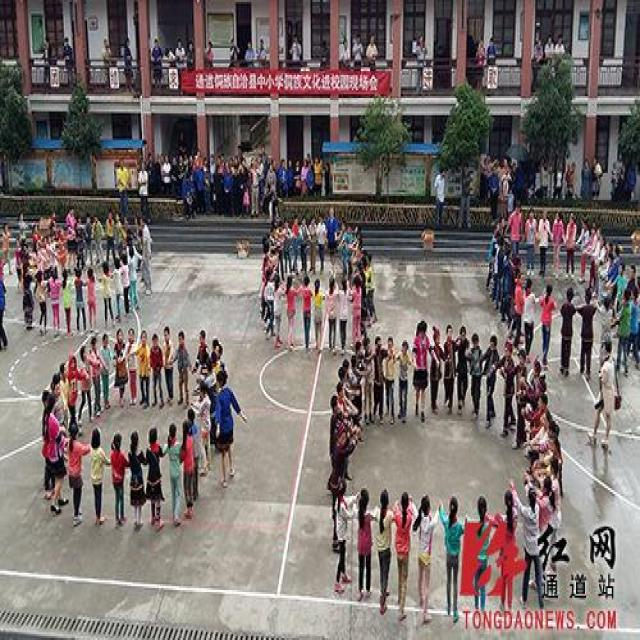non-fight: (41, 371, 72, 519), (467, 496, 492, 630), (494, 496, 518, 630), (414, 502, 438, 622), (391, 503, 414, 619), (442, 500, 464, 620), (355, 488, 375, 600), (86, 431, 109, 526), (500, 338, 521, 440), (411, 323, 433, 419), (125, 432, 146, 528), (557, 288, 577, 377), (577, 286, 595, 381), (91, 332, 111, 410), (174, 332, 192, 406), (147, 334, 165, 406)
